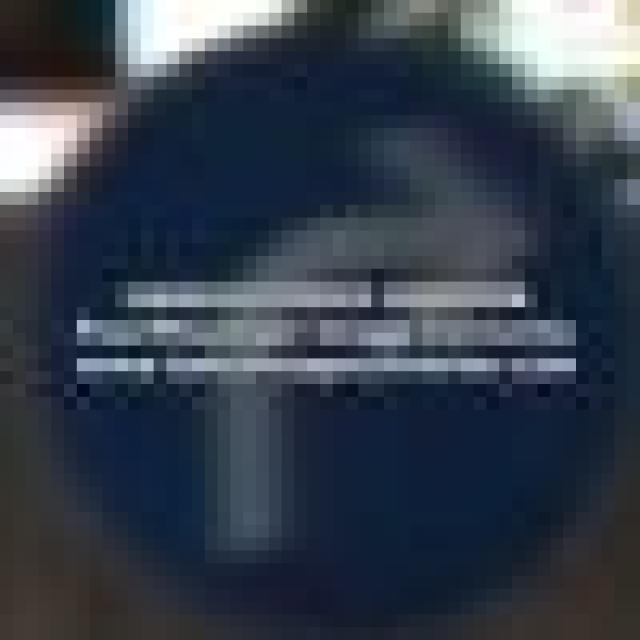railway_crossing: (26, 13, 588, 589)
